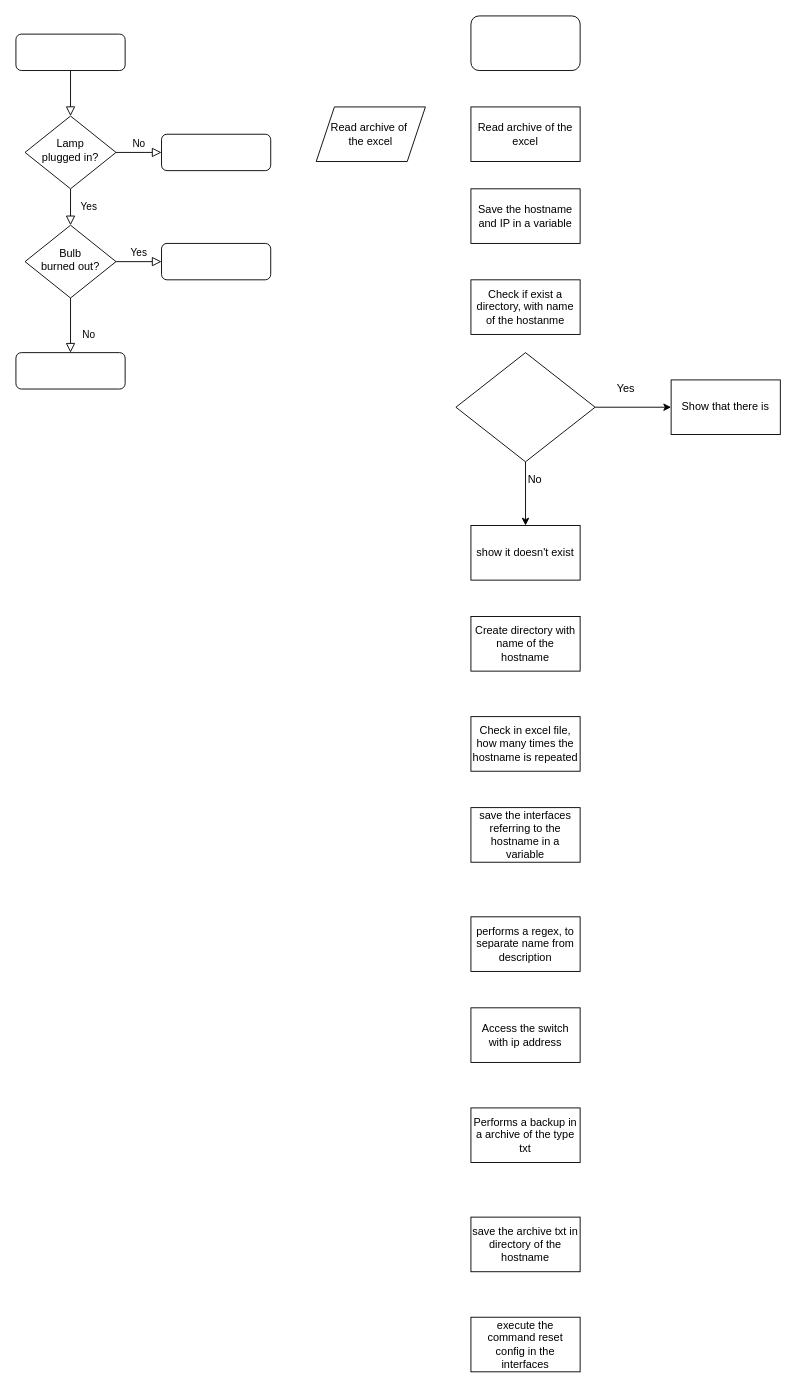
This 796x1388 diagram has some shape labels left out. Here are the shapes that lost their labels. From the top down, the box of each, then its label:
(15, 33, 125, 71): Lamp doesn't work
(470, 15, 580, 71): Start
(161, 133, 271, 171): Plug in lamp
(161, 243, 271, 280): Replace Bulb
(15, 352, 125, 389): Repair Lamp
(455, 352, 595, 462): is there a directory with the name of the hostname?
